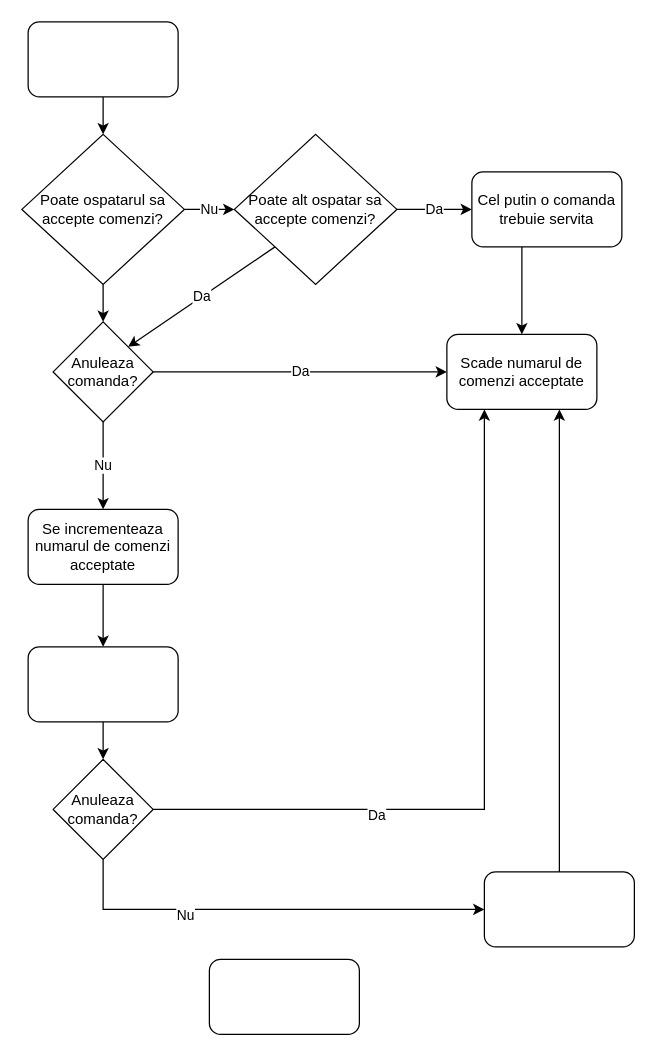
This 656x1056 diagram has some shape labels left out. Here are the shapes that lost their labels. From the top down, the centre of each, then its label:
the point at 102,59: Comanda plasata
the point at 102,684: Comanda este trimisa inapoi la chelner de catre bucatar
the point at 558,909: Comanda este servita
the point at 283,996: Ospatarul serveste comanda
